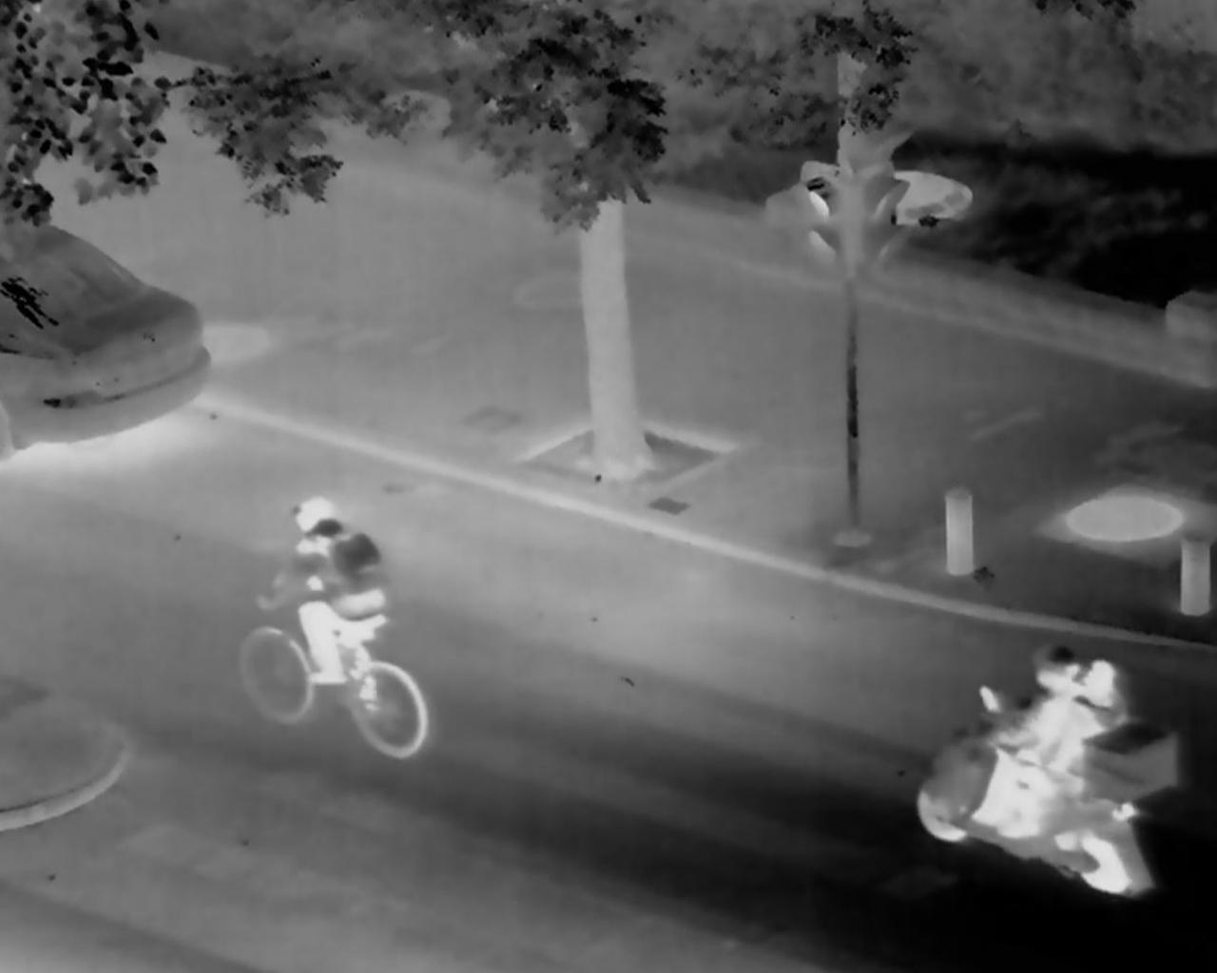person: (977, 641, 1131, 851), (262, 482, 386, 713)
